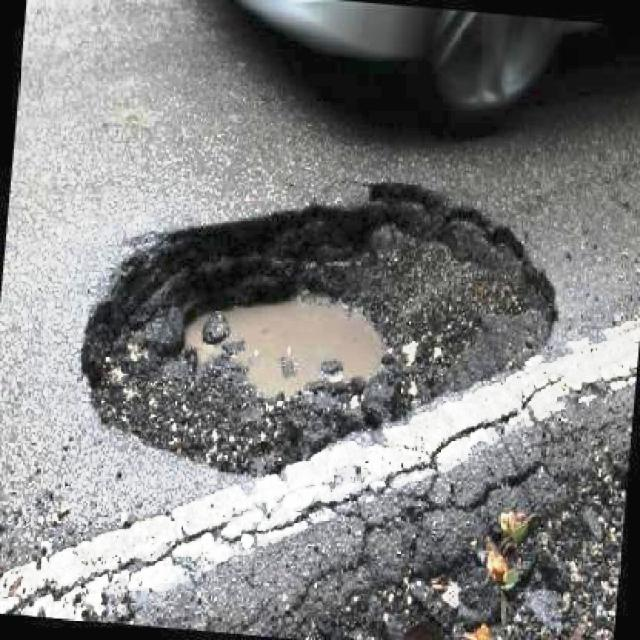pothole: (72, 174, 563, 480), (301, 426, 634, 640)
